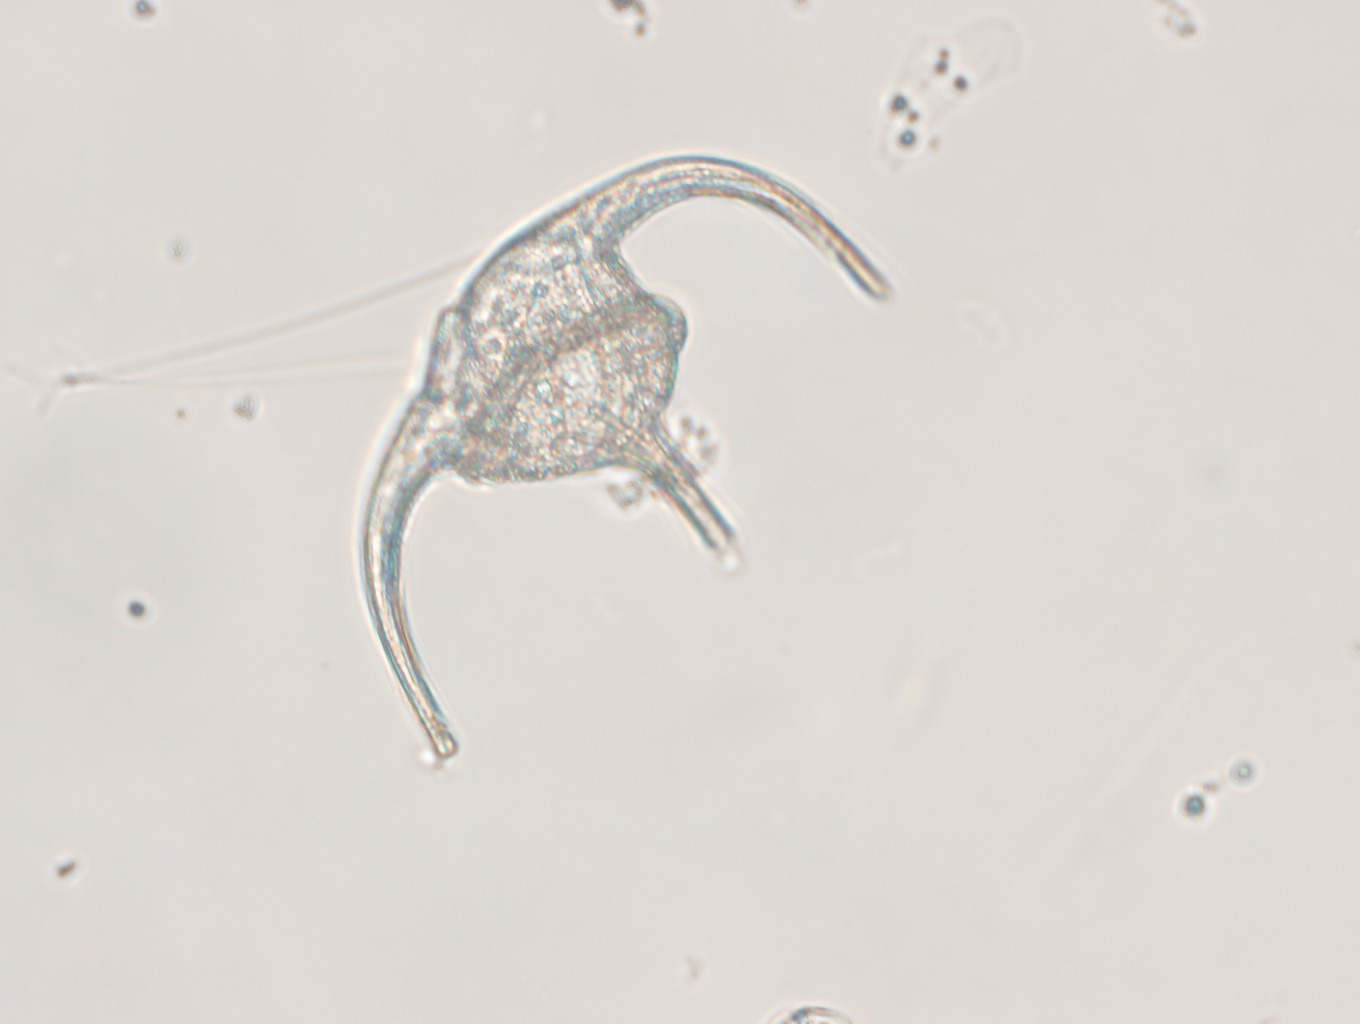ceratium tripos: (355, 153, 894, 760)
